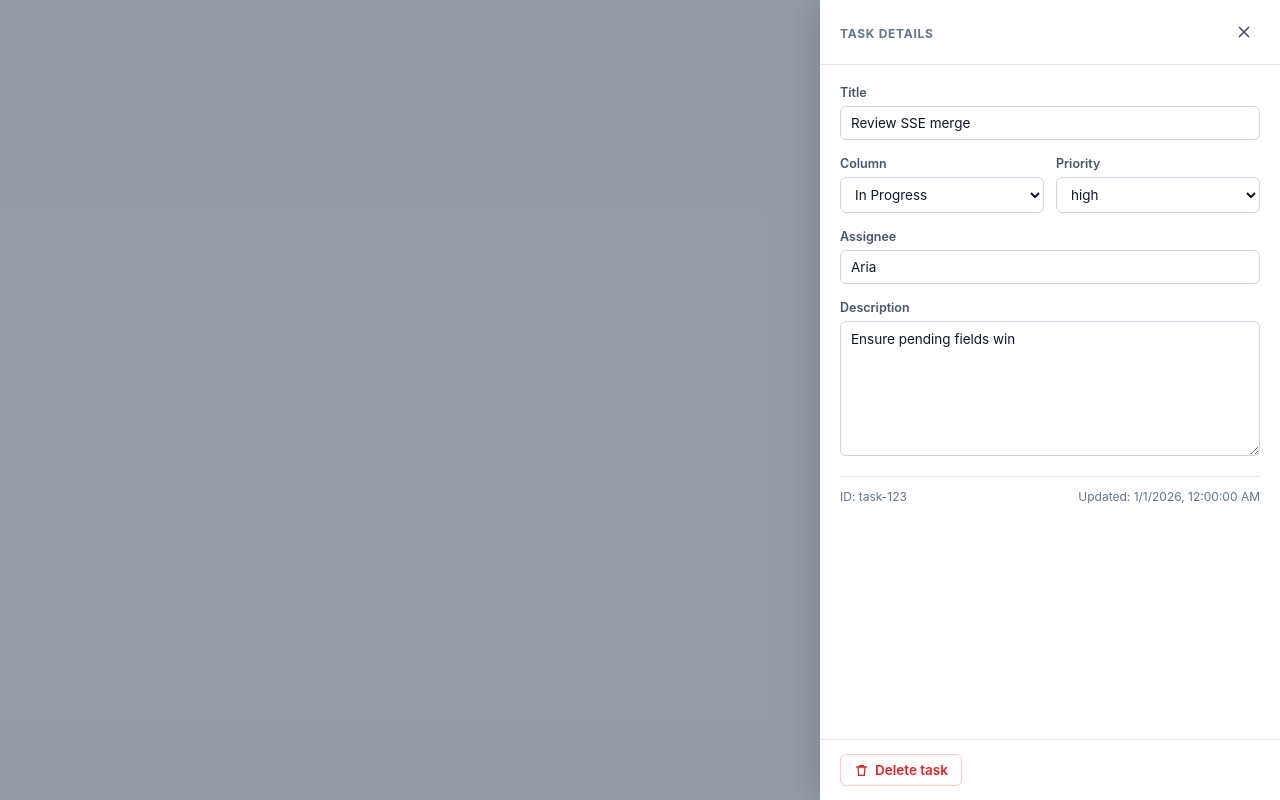
Scenario: TaskDrawer accessibility and interactions › renders accessible dialog, closes on Escape, and requires delete confirmation
Later steps or results of the test are not shown.
Expected: the field named "Task title" holds "Review SSE merge", [840, 106, 1260, 140]
// Delete requires confirmation step
Click the button "Delete task".
click(901, 770)  # box [840, 754, 962, 786]
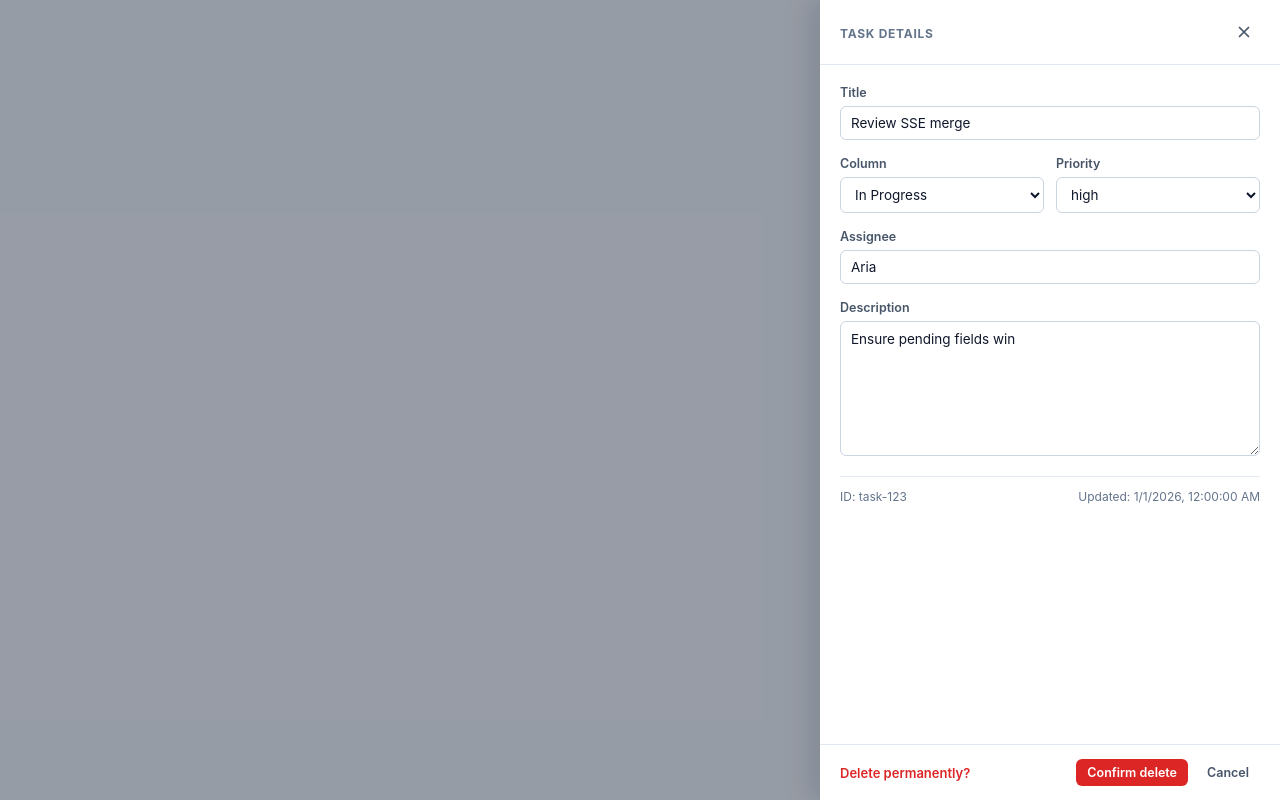
Result: the button "Confirm delete" is shown at [1076, 759, 1188, 786]
Click the button "Cancel".
click(1228, 772)  # box [1196, 759, 1260, 786]
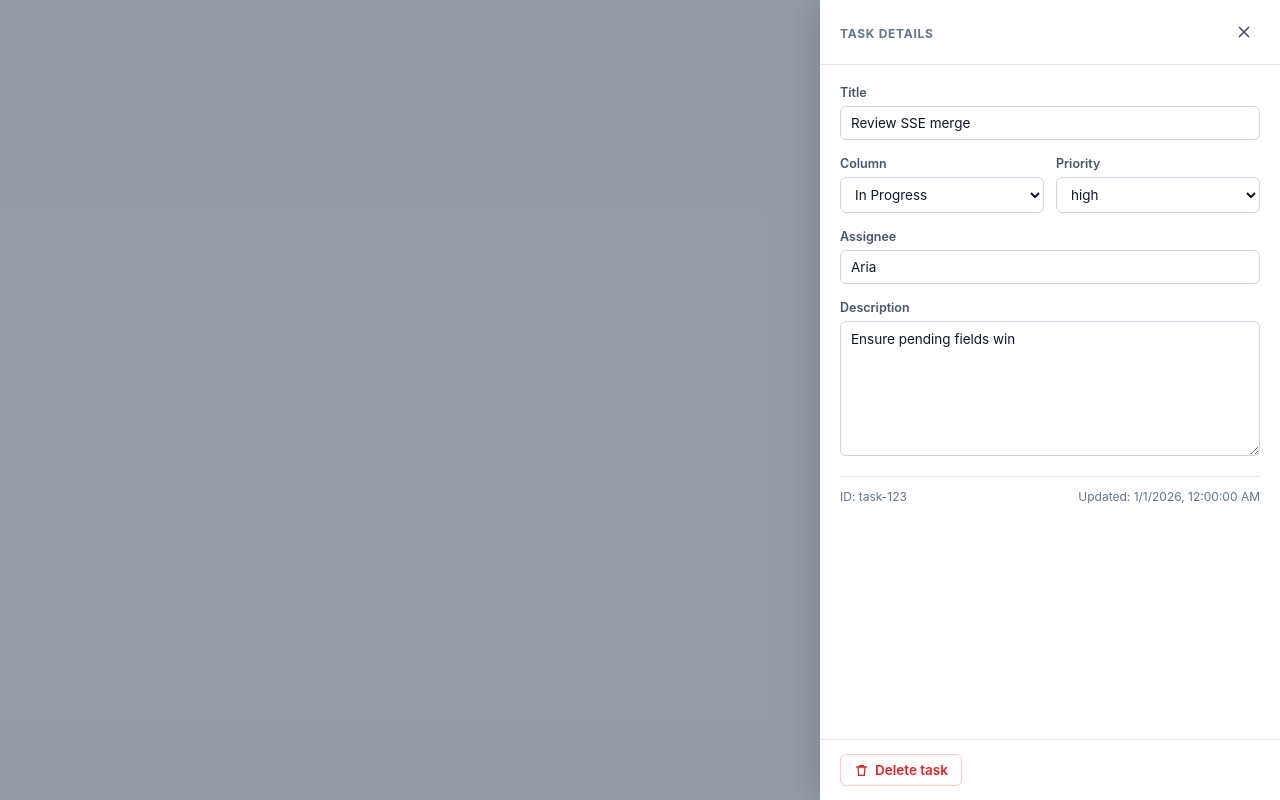
Result: the button "Confirm delete" is gone
